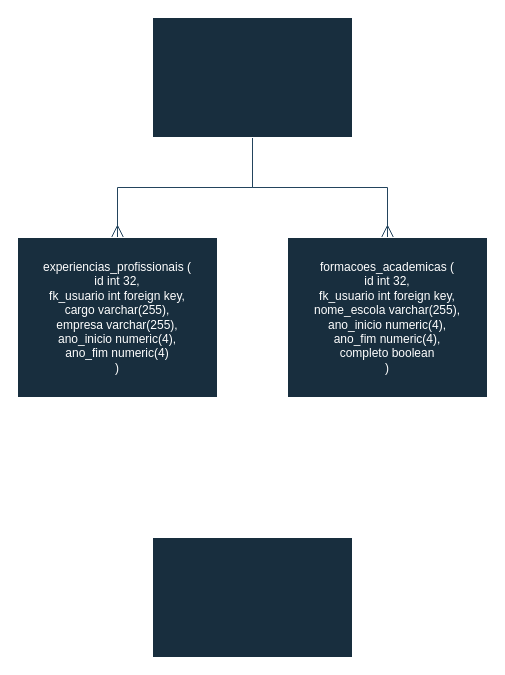
This 505x675 diagram has some shape labels left out. Each missing label, with the box of its shape:
usuarios ( id int 32, nome varchar(255), bio varchar (500) ): (152, 16, 352, 138)
usuarios_documento ( id int 32, perfil jsonb ): (152, 536, 352, 658)
